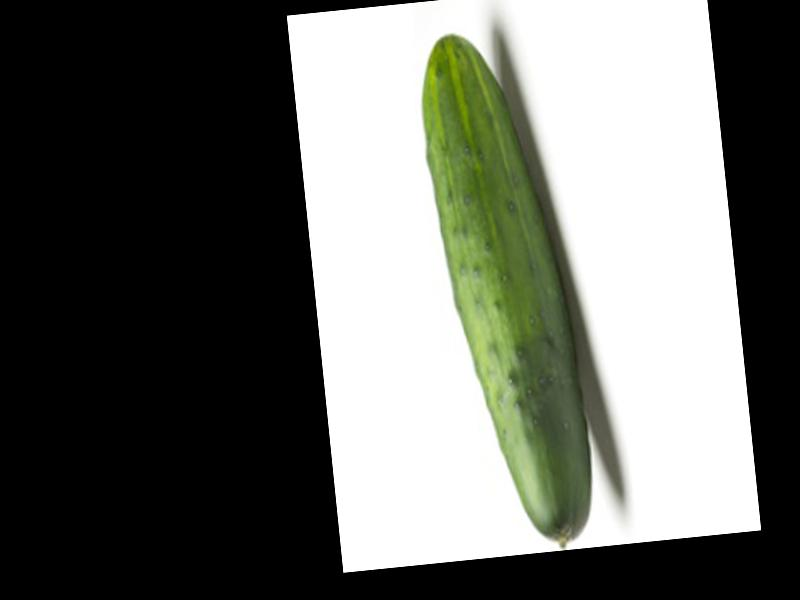Cucumber: (414, 26, 603, 558)
